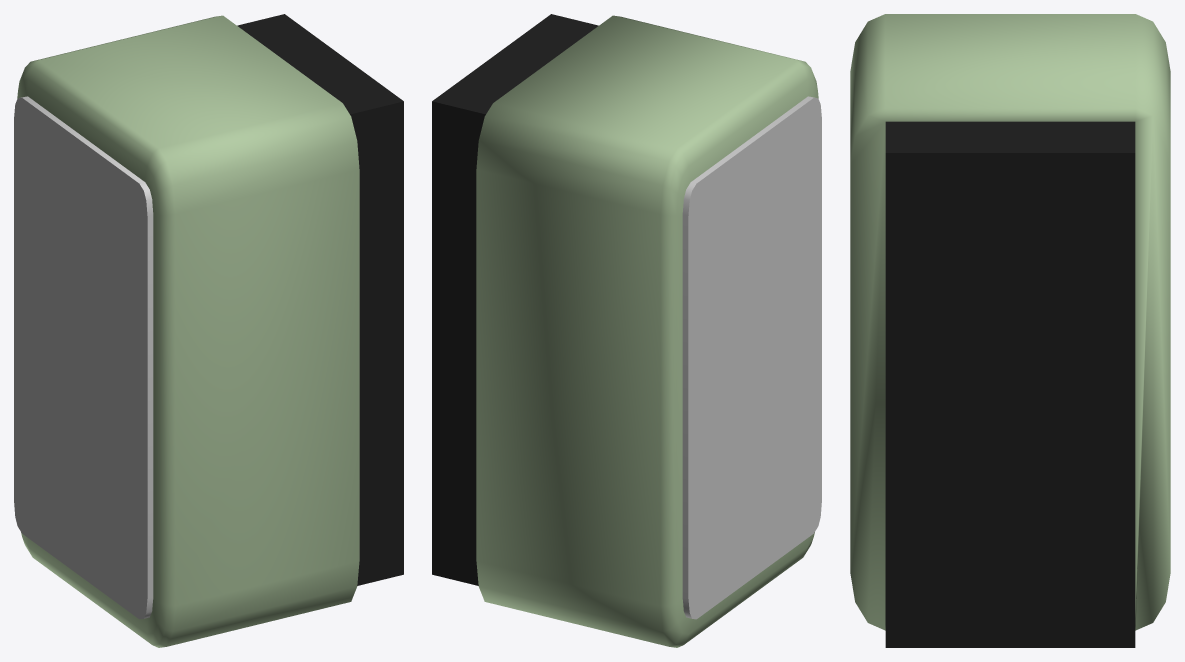
Rendered from radial-container.fbx.
The picture shows the model from 3 angles, left to right: view 1: azimuth 30°, elevation 25°; view 2: azimuth 150°, elevation 25°; view 3: azimuth 270°, elevation 25°; orthographic projection. The views are drawn at different scales.
Parts seen in each view (by area): view 1: radial-container, panel; view 2: radial-container, panel; view 3: radial-container.
Boxes of the visible parts, left/top/right/bottom form: radial-container: left=17, top=14, right=403, bottom=647; panel: left=14, top=96, right=153, bottom=619; radial-container: left=432, top=14, right=818, bottom=647; panel: left=682, top=96, right=821, bottom=619; radial-container: left=850, top=14, right=1170, bottom=647.
Size of what is drawn, in the model's own units: 0.5519 by 1 by 0.5551.
2 materials, 1 textured.
